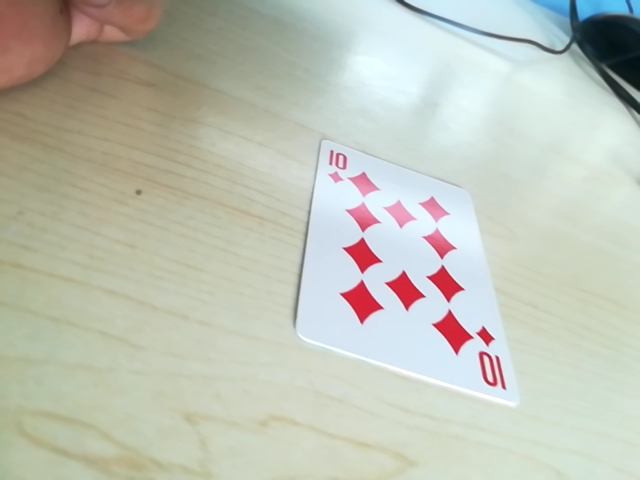fk 10: (465, 329, 508, 397), (320, 138, 361, 191)
